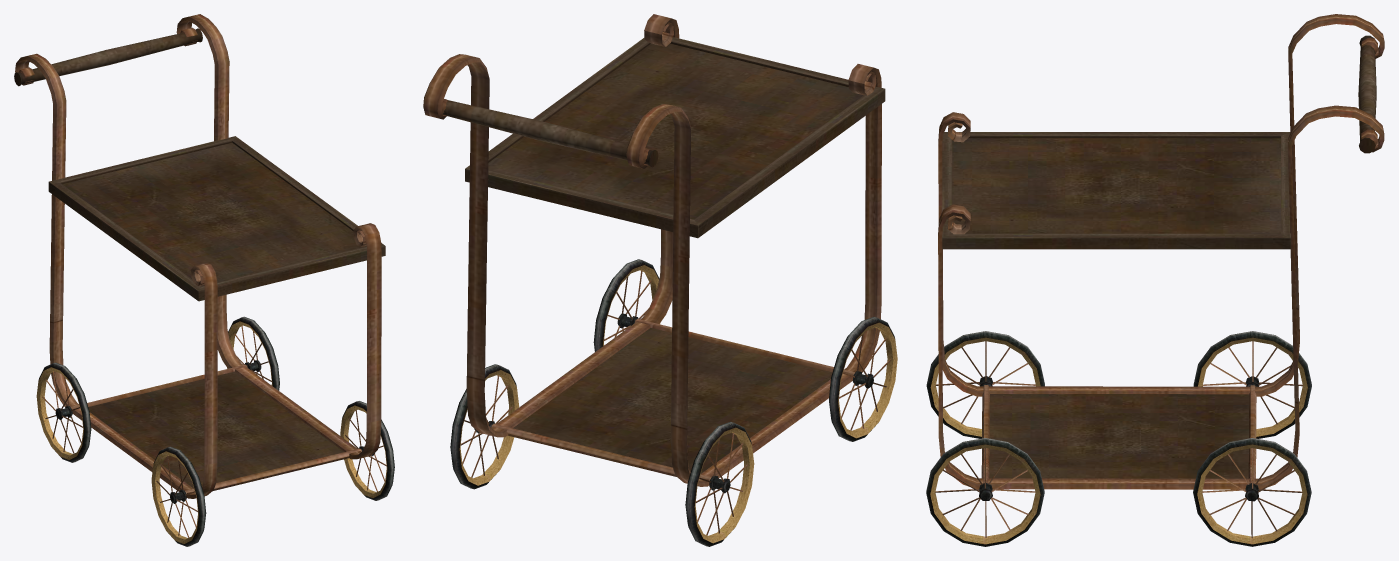
File: handcart.fbx
3 renders of one model, left to right at view 1: azimuth 30°, elevation 25°; view 2: azimuth 150°, elevation 25°; view 3: azimuth 270°, elevation 25°, orthographic. The views are drawn at different scales.
Visible parts, largest first — view 1: handcart; view 2: handcart; view 3: handcart.
Part boxes in pixels (left/top/right/bottom): handcart: left=14, top=14, right=394, bottom=546; handcart: left=423, top=14, right=897, bottom=546; handcart: left=926, top=14, right=1384, bottom=546.
Size of the model in its own units: 64.12 by 112 by 109.
Materials: 1 (1 with a texture image).
